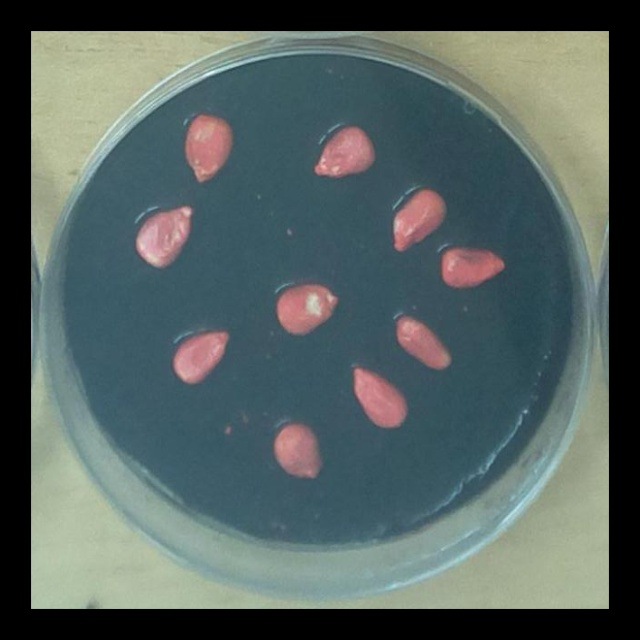Zea mays: (129, 195, 199, 275), (176, 106, 241, 190), (344, 357, 412, 435), (306, 118, 382, 184), (270, 277, 346, 343), (166, 322, 237, 392), (386, 182, 453, 256), (389, 308, 459, 378), (435, 240, 513, 296), (268, 416, 329, 485)
